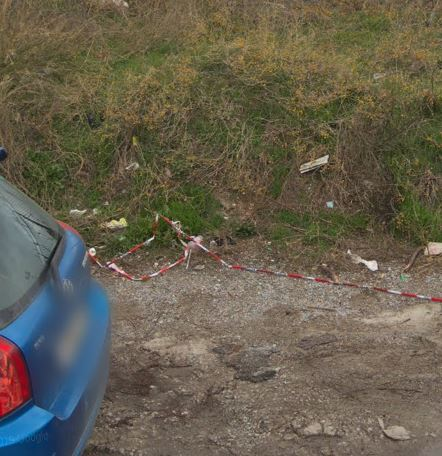trash: (63, 200, 136, 236), (342, 244, 382, 275), (298, 151, 333, 178), (416, 235, 442, 259)
